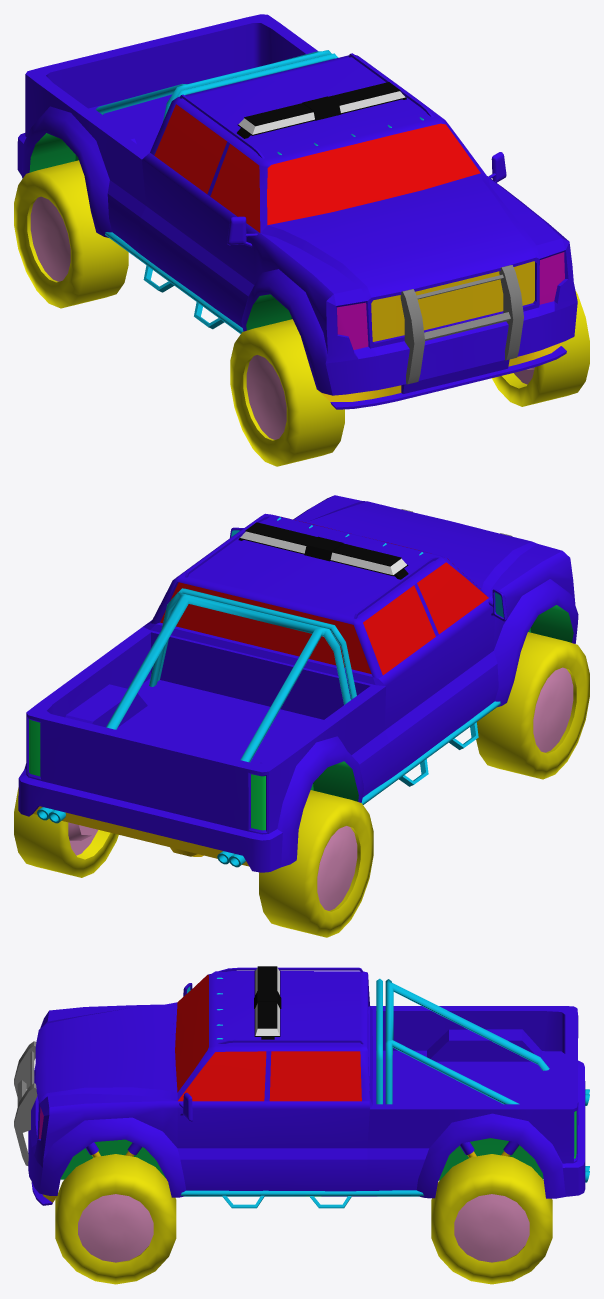
The model's file is 05_VenomSandstormPolice_ColorCoded.fbx.
3 views of the same model, one above another, from view 1: azimuth 30°, elevation 25°; view 2: azimuth 150°, elevation 25°; view 3: azimuth 270°, elevation 25° (orthographic). The views are drawn at different scales.
Parts seen in each view (by area): view 1: Body, tireFrontR, tireBackR, police_ram, tireFrontL, police_light; view 2: Body, tireBackR, tireFrontR, tireBackL, police_light; view 3: Body, tireFrontL, tireBackL, police_light, police_ram.
Boxes of the visible parts, <box> form: Body: <box>17,14,577,409</box>; tireFrontR: <box>230,319,344,466</box>; tireBackR: <box>14,160,128,308</box>; police_ram: <box>400,265,523,384</box>; tireFrontL: <box>492,291,589,406</box>; police_light: <box>237,82,406,138</box>; Body: <box>18,495,578,872</box>; tireBackR: <box>259,790,373,937</box>; tireFrontR: <box>476,632,589,779</box>; tireBackL: <box>14,787,118,877</box>; police_light: <box>238,522,408,579</box>; Body: <box>28,967,589,1208</box>; tireFrontL: <box>55,1154,176,1284</box>; tireBackL: <box>431,1154,552,1284</box>; police_light: <box>254,966,281,1039</box>; police_ram: <box>14,1041,37,1165</box>.
Size of the model in its own units: 66.17 by 127 by 55.11.
